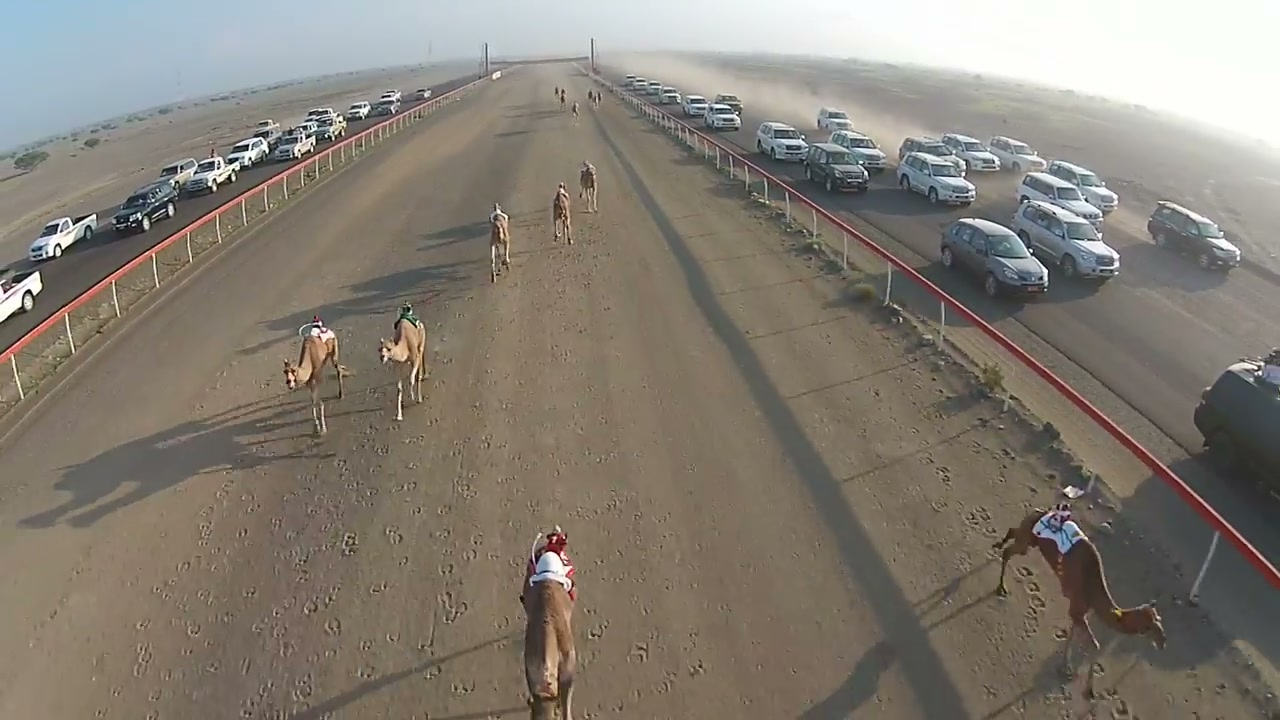animal_foot_print: (138, 451, 413, 700)
